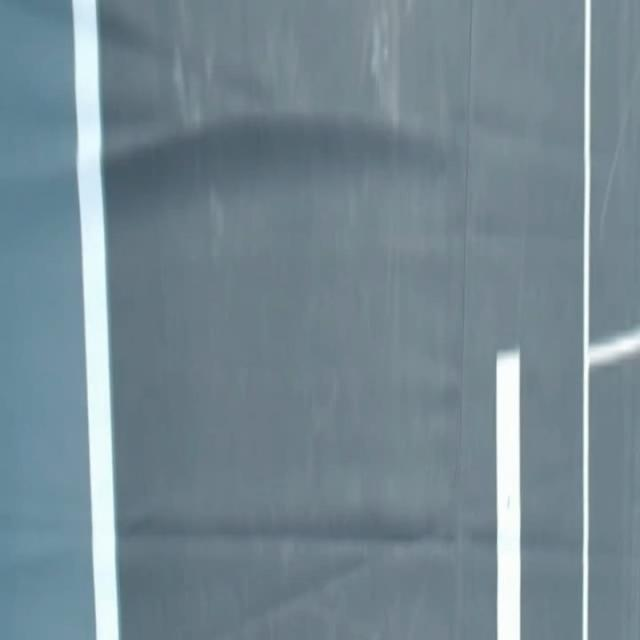center: (497, 352, 520, 639)
left: (72, 0, 119, 639)
